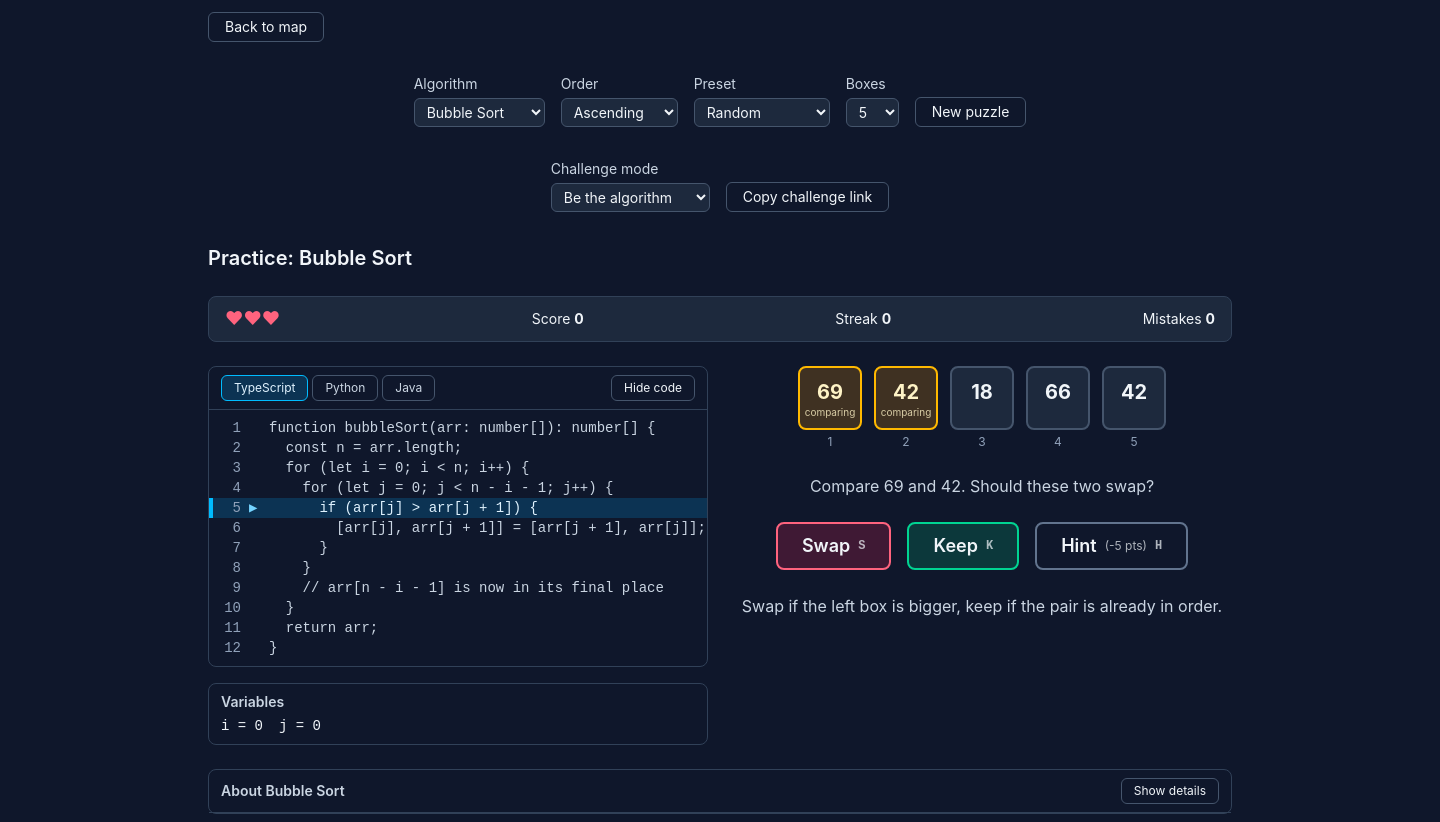
Test: PracticeScreen › switching to selection sort changes the question and the code
Select "Selection Sort" in the dropdown labelled "Algorithm" at (479, 112), box [414,98,545,127]
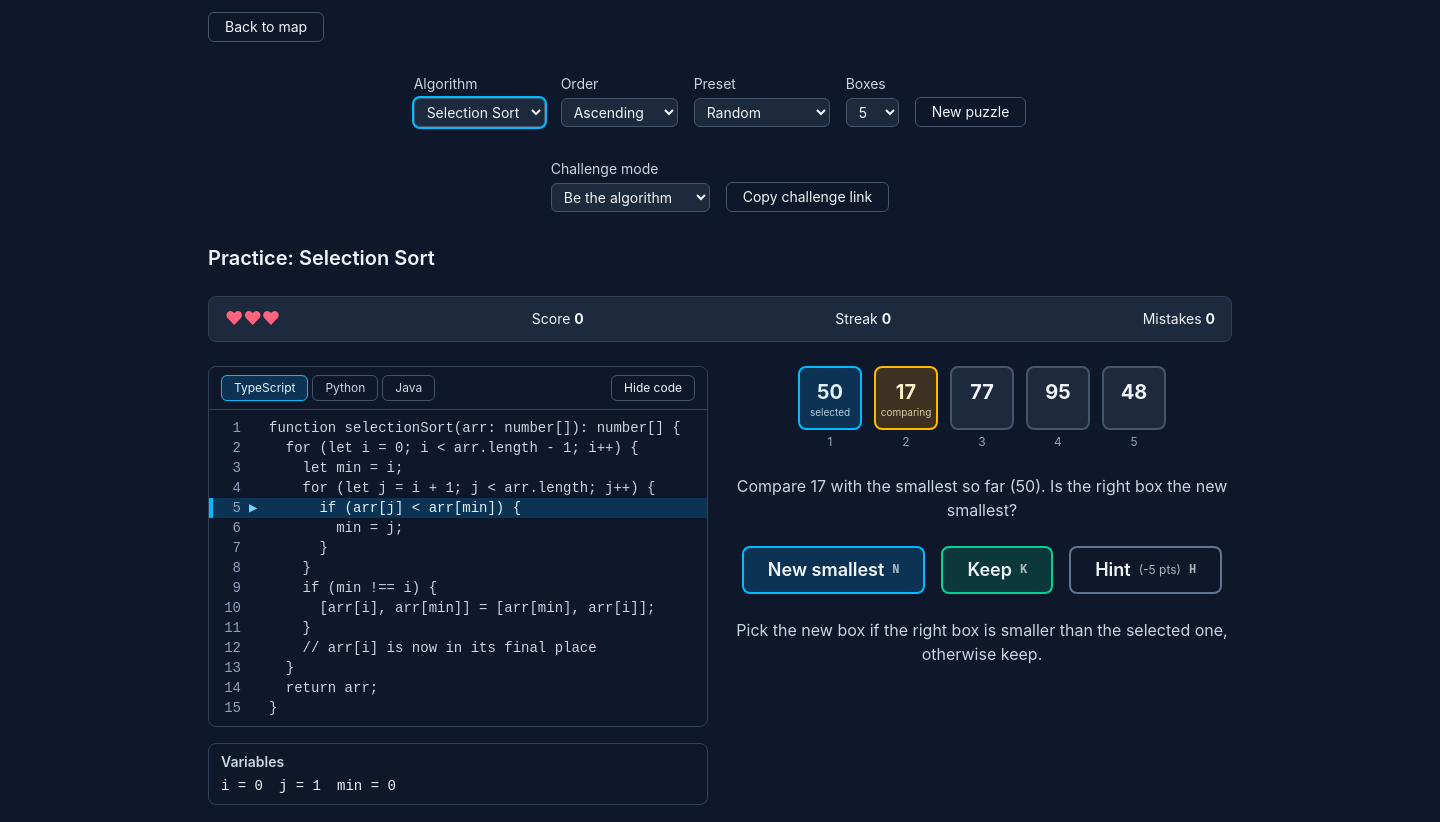
Check: the button "New smallest N" is shown, box [742,546,926,594]
Check: the text "function selectionSort(arr: number[]): number[] {" is shown, box [269,418,681,438]
